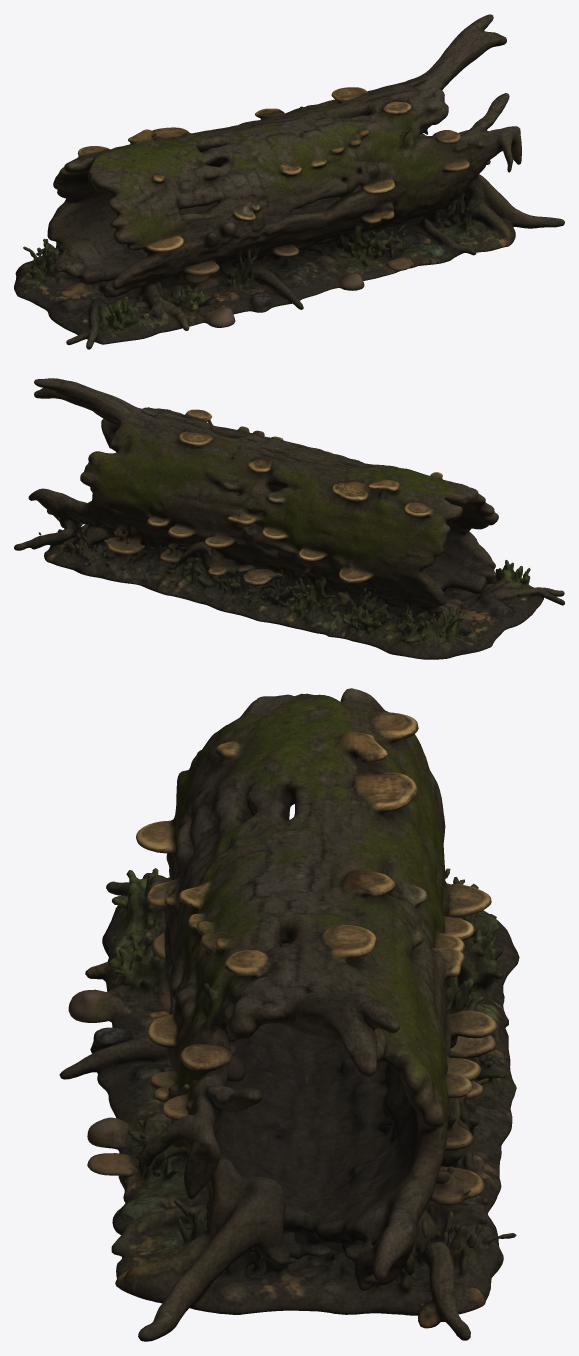
Rendered from tronco_completo_del_suelo.glb.
The picture shows the model from 3 angles, top to bottom: view 1: azimuth 30°, elevation 25°; view 2: azimuth 150°, elevation 25°; view 3: azimuth 270°, elevation 25°; orthographic projection. The views are drawn at different scales.
Parts seen in each view (by area): view 1: world; view 2: world; view 3: world.
Boxes of the visible parts, x1,y1,x2,y2 form: world: [14, 14, 564, 349]; world: [14, 378, 564, 659]; world: [59, 688, 519, 1341].
Size of the model in its own units: 1 by 0.3204 by 0.417.
Materials: 1 (1 with a texture image).
